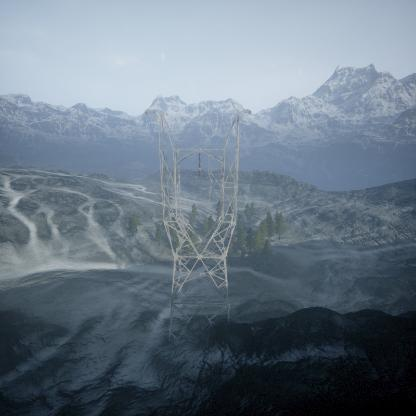tower: (141, 107, 250, 328)
